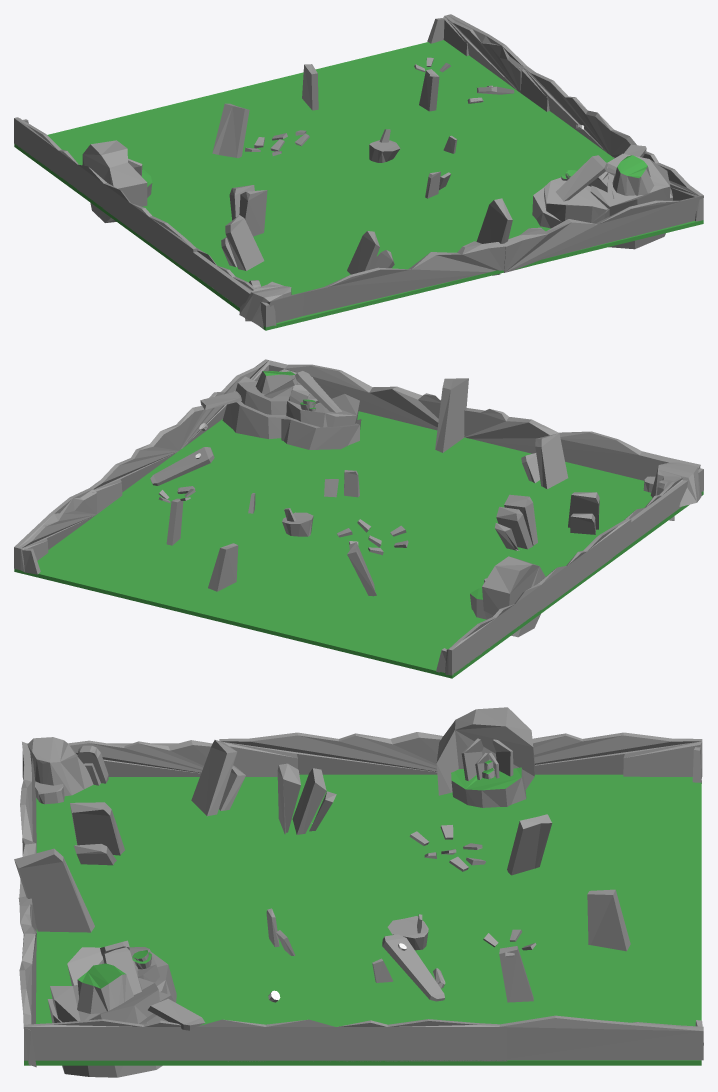
Rendered from FASE3.fbx.
3 views of the same model, one above another, from view 1: azimuth 30°, elevation 25°; view 2: azimuth 150°, elevation 25°; view 3: azimuth 270°, elevation 25° (orthographic). The views are drawn at different scales.
Parts seen in each view (by area): view 1: mesh_1623747646, group_856137357, group_1488065900, mesh_173485125, mesh_1221842591, mesh_2040807182, mesh_331444629, mesh_750190634, mesh_1388914526, mesh_1567665188, mesh_793853698, mesh_1714677689 (+8 smaller); view 2: mesh_1623747646, group_856137357, group_1488065900, mesh_173485125, mesh_1221842591, mesh_2040807182, mesh_1166388790, mesh_1714677689, mesh_44272184, mesh_750190634, mesh_1254626307, mesh_79235079 (+12 smaller); view 3: mesh_1623747646, group_1488065900, group_856137357, mesh_2040807182, mesh_1714677689, mesh_79235079, mesh_331444629, mesh_1312956681, mesh_1221842591, mesh_793853698, mesh_533364390, mesh_1254626307 (+16 smaller).
Part boxes in pixels (left/top/right/bottom): mesh_1623747646: left=14, top=40, right=703, bottom=330; group_856137357: left=14, top=117, right=276, bottom=327; group_1488065900: left=443, top=14, right=703, bottom=221; mesh_173485125: left=267, top=241, right=505, bottom=323; mesh_1221842591: left=504, top=195, right=703, bottom=272; mesh_2040807182: left=82, top=140, right=147, bottom=222; mesh_331444629: left=590, top=153, right=670, bottom=216; mesh_750190634: left=544, top=177, right=613, bottom=222; mesh_1388914526: left=212, top=103, right=249, bottom=158; mesh_1567665188: left=225, top=215, right=264, bottom=270; mesh_793853698: left=612, top=155, right=654, bottom=195; mesh_1714677689: left=476, top=198, right=512, bottom=275; mesh_1623747646: left=14, top=411, right=703, bottom=678; group_856137357: left=445, top=468, right=703, bottom=675; group_1488065900: left=14, top=359, right=269, bottom=571; mesh_173485125: left=464, top=408, right=700, bottom=480; mesh_1221842591: left=268, top=360, right=440, bottom=430; mesh_2040807182: left=482, top=556, right=545, bottom=637; mesh_1166388790: left=281, top=416, right=361, bottom=449; mesh_1714677689: left=435, top=378, right=468, bottom=452; mesh_44272184: left=222, top=390, right=287, bottom=439; mesh_750190634: left=286, top=394, right=359, bottom=427; mesh_1254626307: left=535, top=433, right=568, bottom=489; mesh_79235079: left=650, top=462, right=701, bottom=506; mesh_1623747646: left=24, top=774, right=701, bottom=1065; group_1488065900: left=24, top=1015, right=703, bottom=1061; group_856137357: left=22, top=732, right=702, bottom=779; mesh_2040807182: left=436, top=707, right=535, bottom=795; mesh_1714677689: left=14, top=848, right=94, bottom=932; mesh_79235079: left=27, top=737, right=93, bottom=796; mesh_331444629: left=50, top=978, right=159, bottom=1023; mesh_1312956681: left=451, top=767, right=526, bottom=807; mesh_1221842591: left=18, top=896, right=36, bottom=1067; mesh_793853698: left=77, top=963, right=133, bottom=1013; mesh_533364390: left=587, top=889, right=630, bottom=951; mesh_1254626307: left=70, top=802, right=124, bottom=855.
Bounding box in the file's own units: 988 × 179 × 969.
